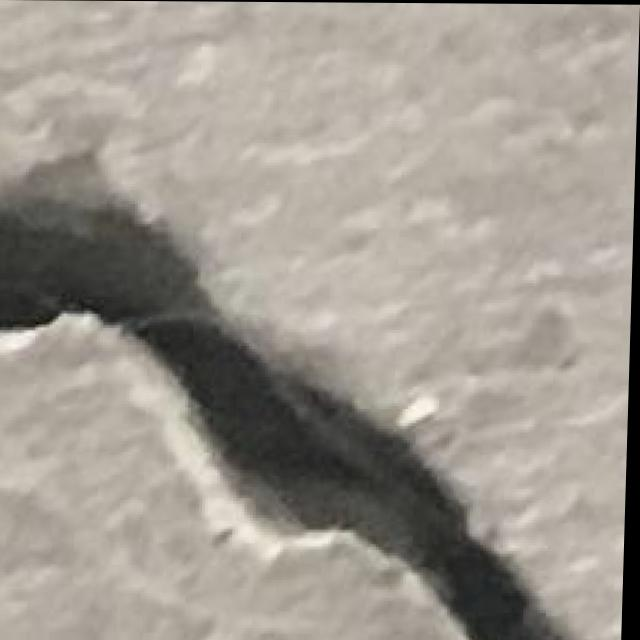Crack: (0, 189, 577, 640)
